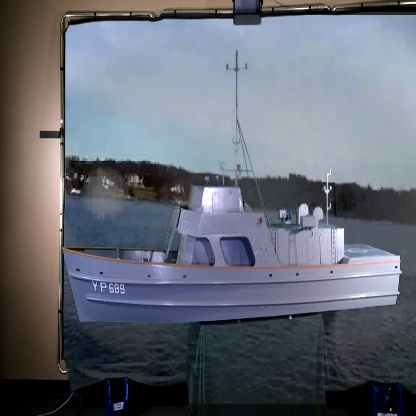YP689: (63, 48, 405, 325)
